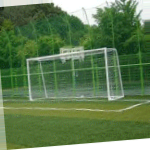goals: (24, 46, 126, 105)
